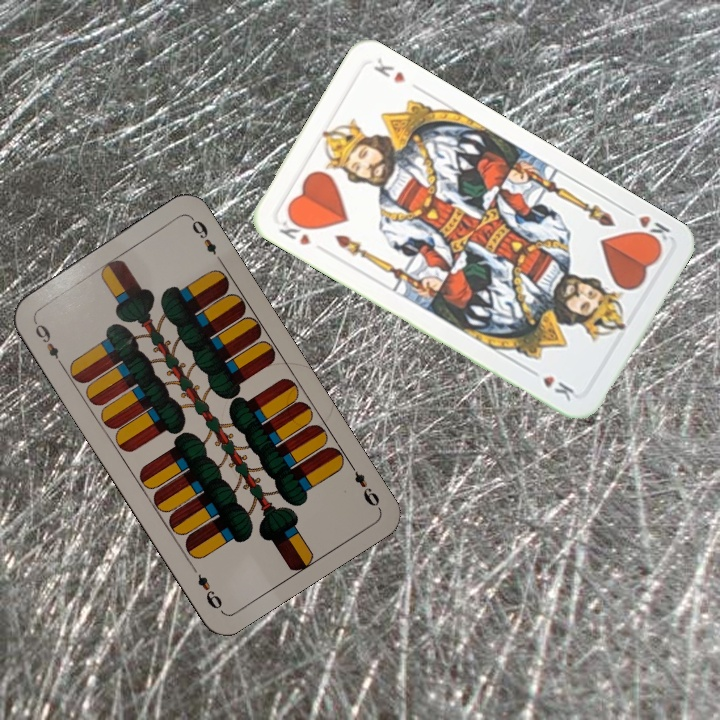E9: (345, 458, 383, 511), (29, 316, 66, 369)
HK: (620, 204, 674, 250), (275, 212, 315, 248)
